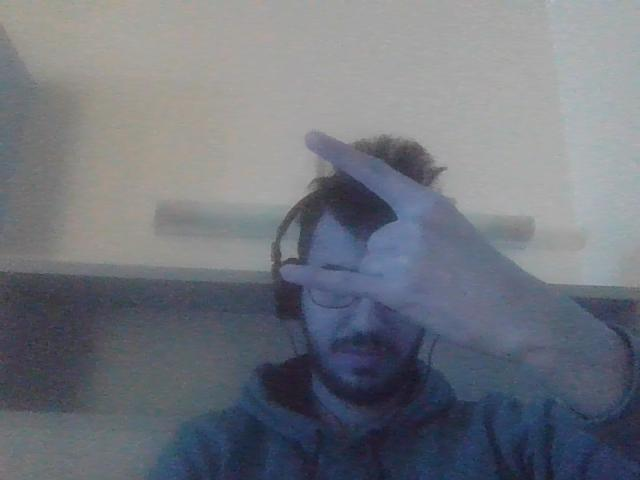iloveyou: (299, 131, 530, 362)
